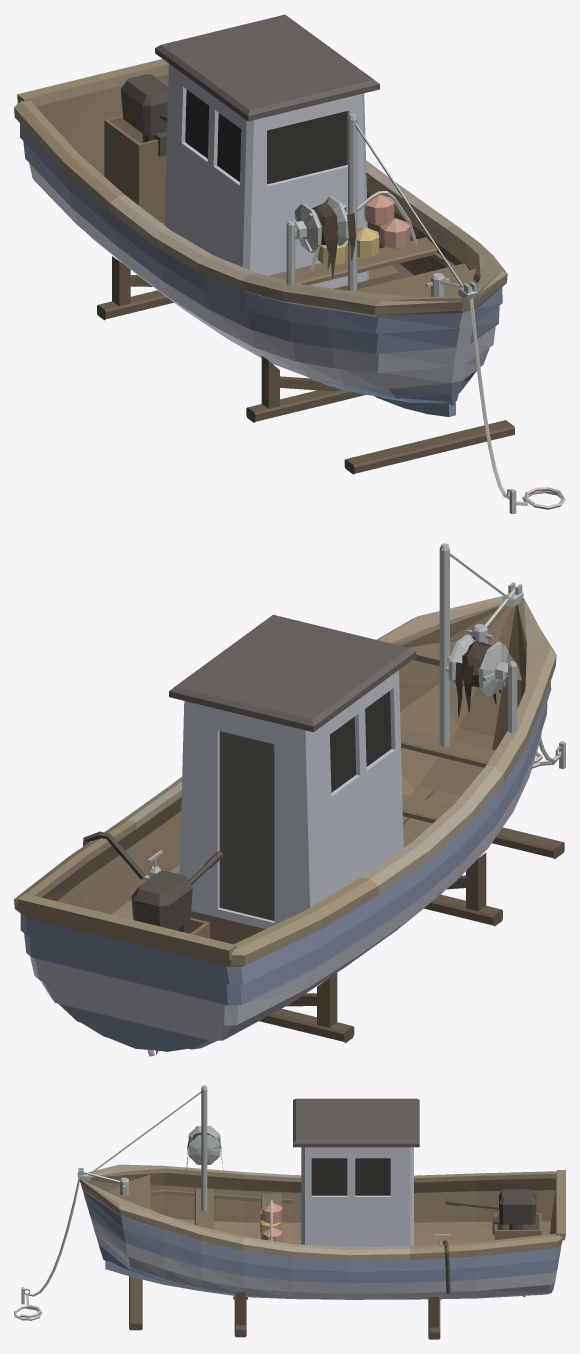
File: fishing_boat.glb
3 renders of one model, top to bottom at view 1: azimuth 30°, elevation 25°; view 2: azimuth 150°, elevation 25°; view 3: azimuth 270°, elevation 25°, orthographic. The views are drawn at different scales.
Parts seen in each view (by area): view 1: object 1, object 2, hauler, outboard; view 2: object 1, outboard, hauler; view 3: object 1, outboard, hauler, object 2.
Boxes of the visible parts, x1,y1,x2,y2 form: object 1: (14,14,565,514); object 2: (310,191,417,271); hauler: (292,196,355,278); outboard: (120,74,168,142); object 1: (14,543,565,1051); outboard: (131,851,223,1054); hauler: (445,634,508,716); object 1: (14,1085,565,1339); outboard: (445,1189,536,1296); hauler: (186,1126,223,1172); object 2: (260,1199,282,1242).
Bounding box in the file's own units: 2.36 × 2.85 × 6.84.
